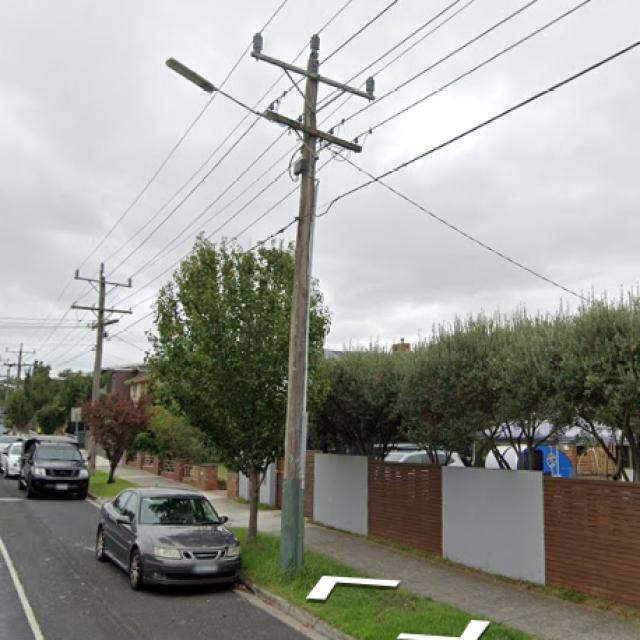HV-transmission: (250, 31, 378, 100), (73, 262, 133, 290), (4, 342, 36, 357)
crossarm: (250, 53, 374, 99), (262, 110, 363, 156), (70, 303, 132, 317), (74, 276, 130, 288), (89, 320, 120, 330), (2, 362, 38, 367), (5, 350, 36, 354)
streetlight: (164, 57, 266, 119)
timber-pole: (279, 32, 322, 574), (86, 261, 106, 473), (14, 340, 24, 391)
